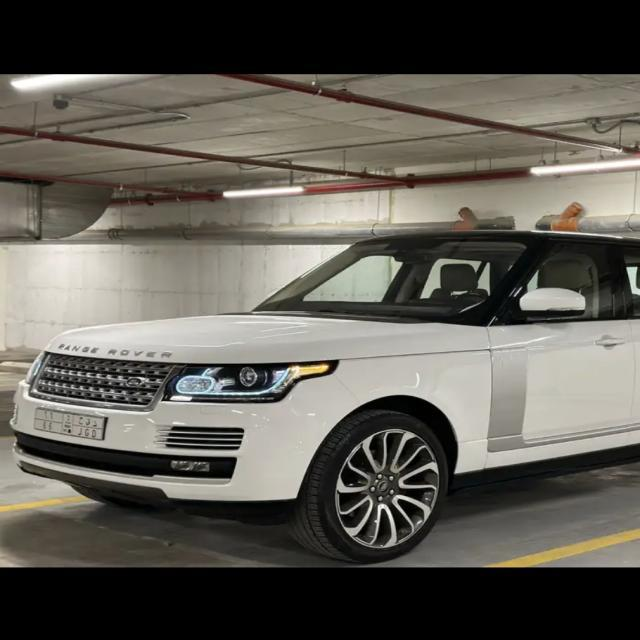license_plate: (35, 407, 103, 440)
